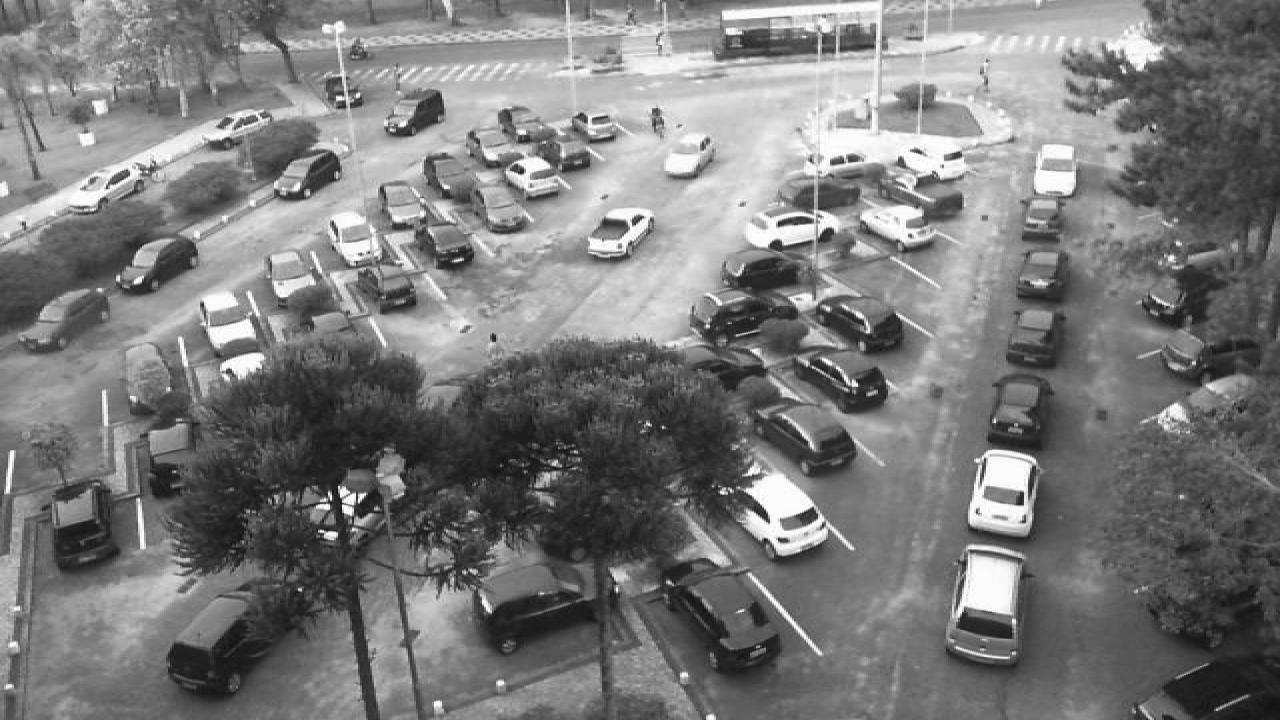Car: (660, 557, 784, 674), (164, 583, 284, 696), (470, 554, 600, 654), (938, 542, 1034, 667), (720, 459, 830, 559), (1124, 655, 1280, 720), (748, 396, 858, 477), (290, 467, 388, 549), (964, 447, 1044, 540), (686, 286, 798, 348), (44, 479, 122, 568), (792, 345, 890, 414), (1160, 325, 1268, 380), (20, 289, 112, 351), (812, 294, 902, 352), (674, 341, 772, 393), (984, 372, 1050, 449), (116, 236, 202, 294), (740, 206, 846, 251), (138, 417, 196, 496), (720, 248, 820, 292), (872, 176, 966, 222), (120, 341, 180, 413), (60, 165, 148, 214), (1000, 304, 1066, 368), (196, 288, 264, 350), (850, 206, 936, 252), (270, 148, 344, 200), (586, 207, 656, 260), (468, 177, 530, 234), (356, 261, 420, 313), (326, 211, 382, 269), (200, 108, 276, 150), (416, 218, 478, 269), (382, 87, 446, 136), (260, 250, 316, 305), (1136, 269, 1190, 326), (376, 180, 432, 232), (1012, 248, 1068, 300), (780, 151, 878, 180), (500, 155, 564, 199), (892, 146, 970, 180), (1028, 143, 1078, 196), (420, 151, 476, 198), (664, 135, 718, 180), (1016, 197, 1066, 243), (466, 125, 520, 164), (534, 136, 594, 171), (492, 103, 544, 138), (320, 68, 364, 109), (574, 109, 622, 142)
